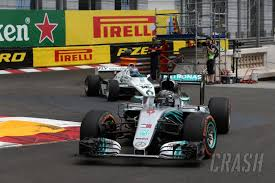f1_car: (67, 70, 237, 174), (78, 58, 185, 112)
